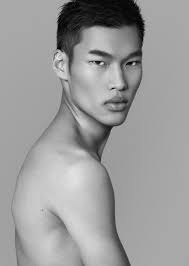asian_male: (65, 6, 164, 133)
